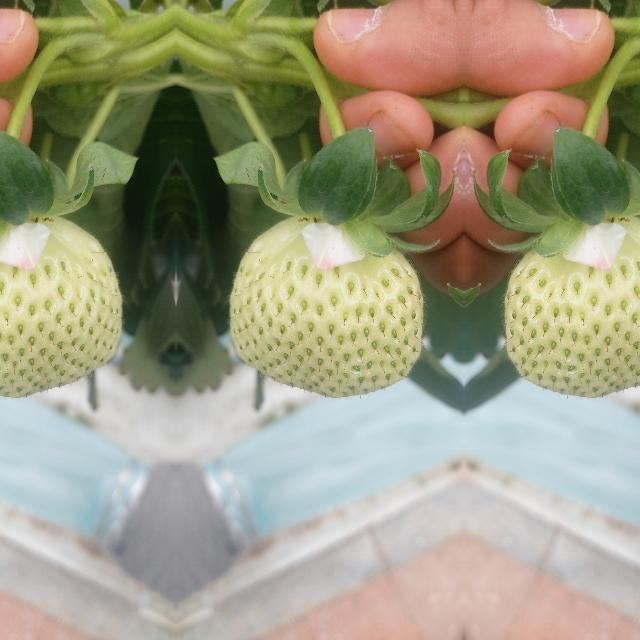Health_25: (228, 216, 422, 397), (504, 215, 640, 396), (0, 215, 121, 396)
